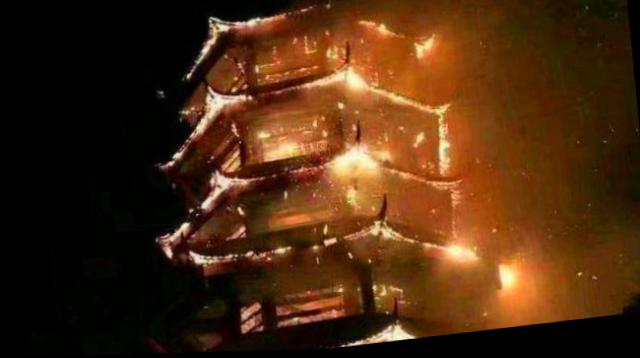fire: (150, 0, 528, 352)
